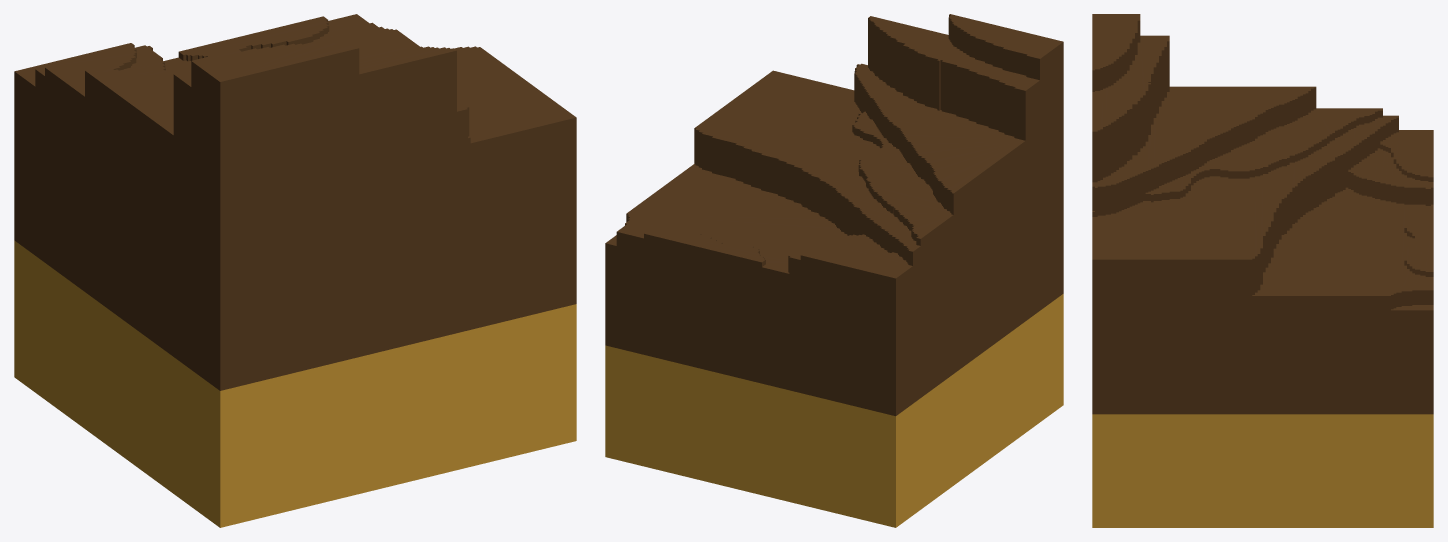
3 renders of one model, left to right at view 1: azimuth 30°, elevation 25°; view 2: azimuth 150°, elevation 25°; view 3: azimuth 270°, elevation 25°, orthographic. The views are drawn at different scales.
Visible parts, largest first — view 1: 9P; view 2: 9P; view 3: 9P.
Boxes of the visible parts, box(x1,y1,x2,y2) form: 9P: box(14, 14, 576, 527); 9P: box(605, 14, 1063, 527); 9P: box(1092, 14, 1433, 527).
Bounding box in the file's own units: 12.8 × 15.3 × 12.8.
Materials: 1 (1 with a texture image).
